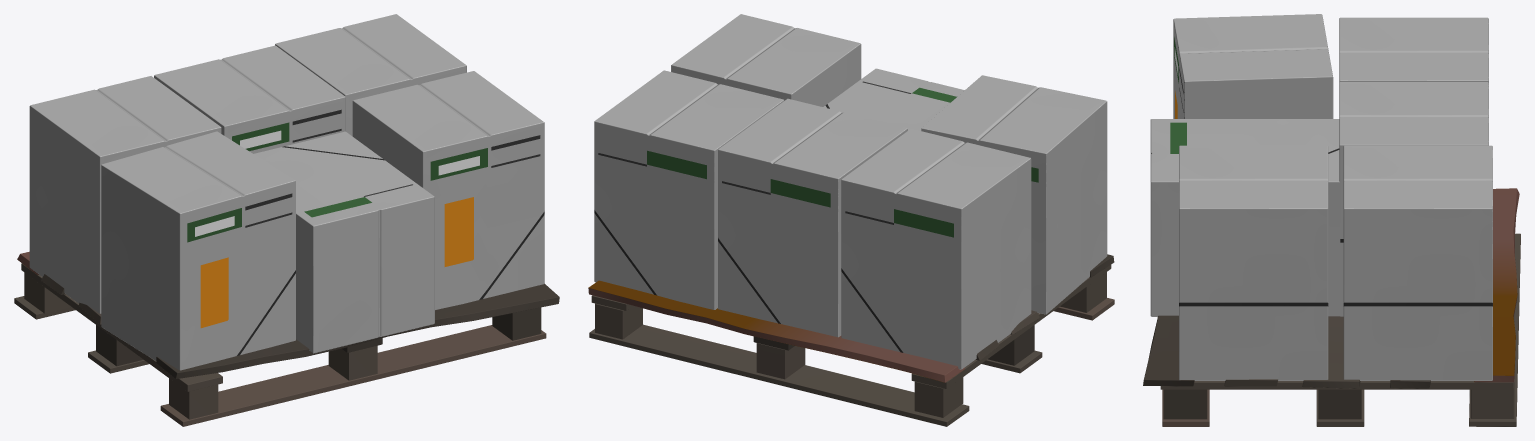
Rendered from SM_PalletBoxes_A_D.fbx.
3 renders of one model, left to right at view 1: azimuth 30°, elevation 25°; view 2: azimuth 150°, elevation 25°; view 3: azimuth 270°, elevation 25°, orthographic. The views are drawn at different scales.
Parts seen in each view (by area): view 1: SM_PalletBoxes_A_D; view 2: SM_PalletBoxes_A_D; view 3: SM_PalletBoxes_A_D.
Boxes of the visible parts, x1,y1,x2,y2 form: SM_PalletBoxes_A_D: (14,14,559,426); SM_PalletBoxes_A_D: (588,14,1114,426); SM_PalletBoxes_A_D: (1143,14,1520,426).
Size of the model in its own units: 129 by 67.91 by 105.
